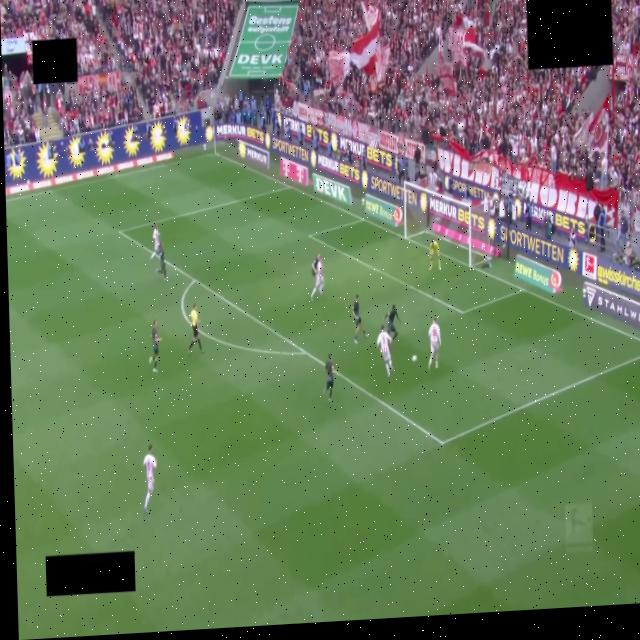ball: (412, 355, 416, 362)
player: (143, 445, 156, 512), (377, 325, 392, 377), (353, 294, 368, 344), (311, 256, 324, 301), (149, 319, 160, 372), (429, 319, 440, 368), (324, 354, 335, 402), (384, 305, 399, 339), (429, 240, 441, 270), (157, 243, 166, 281), (151, 224, 160, 262), (311, 253, 320, 277)
referee: (189, 303, 203, 353)
